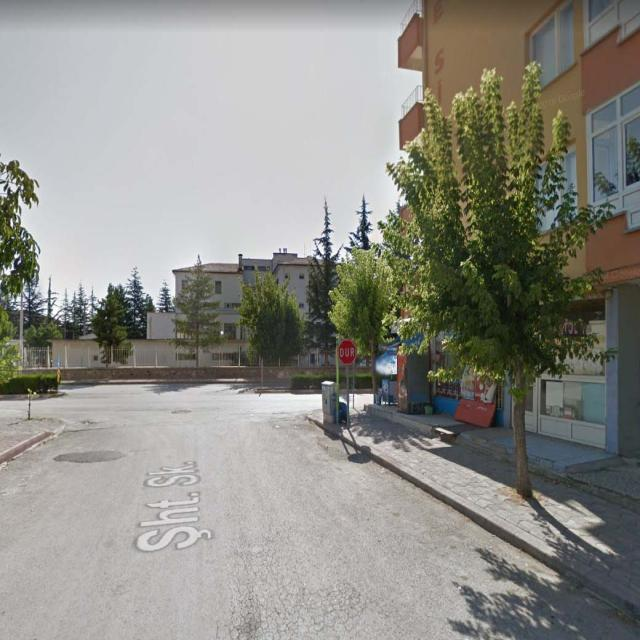dur: (338, 341, 356, 364)
